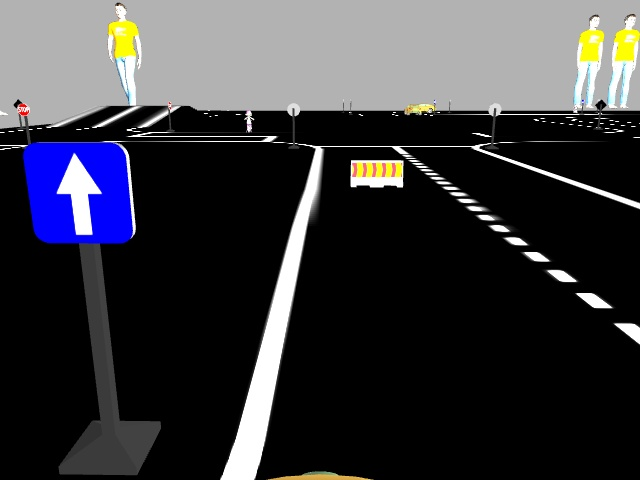ClosedRoadStand: (352, 159, 402, 186)
OneWay: (24, 144, 134, 242)
